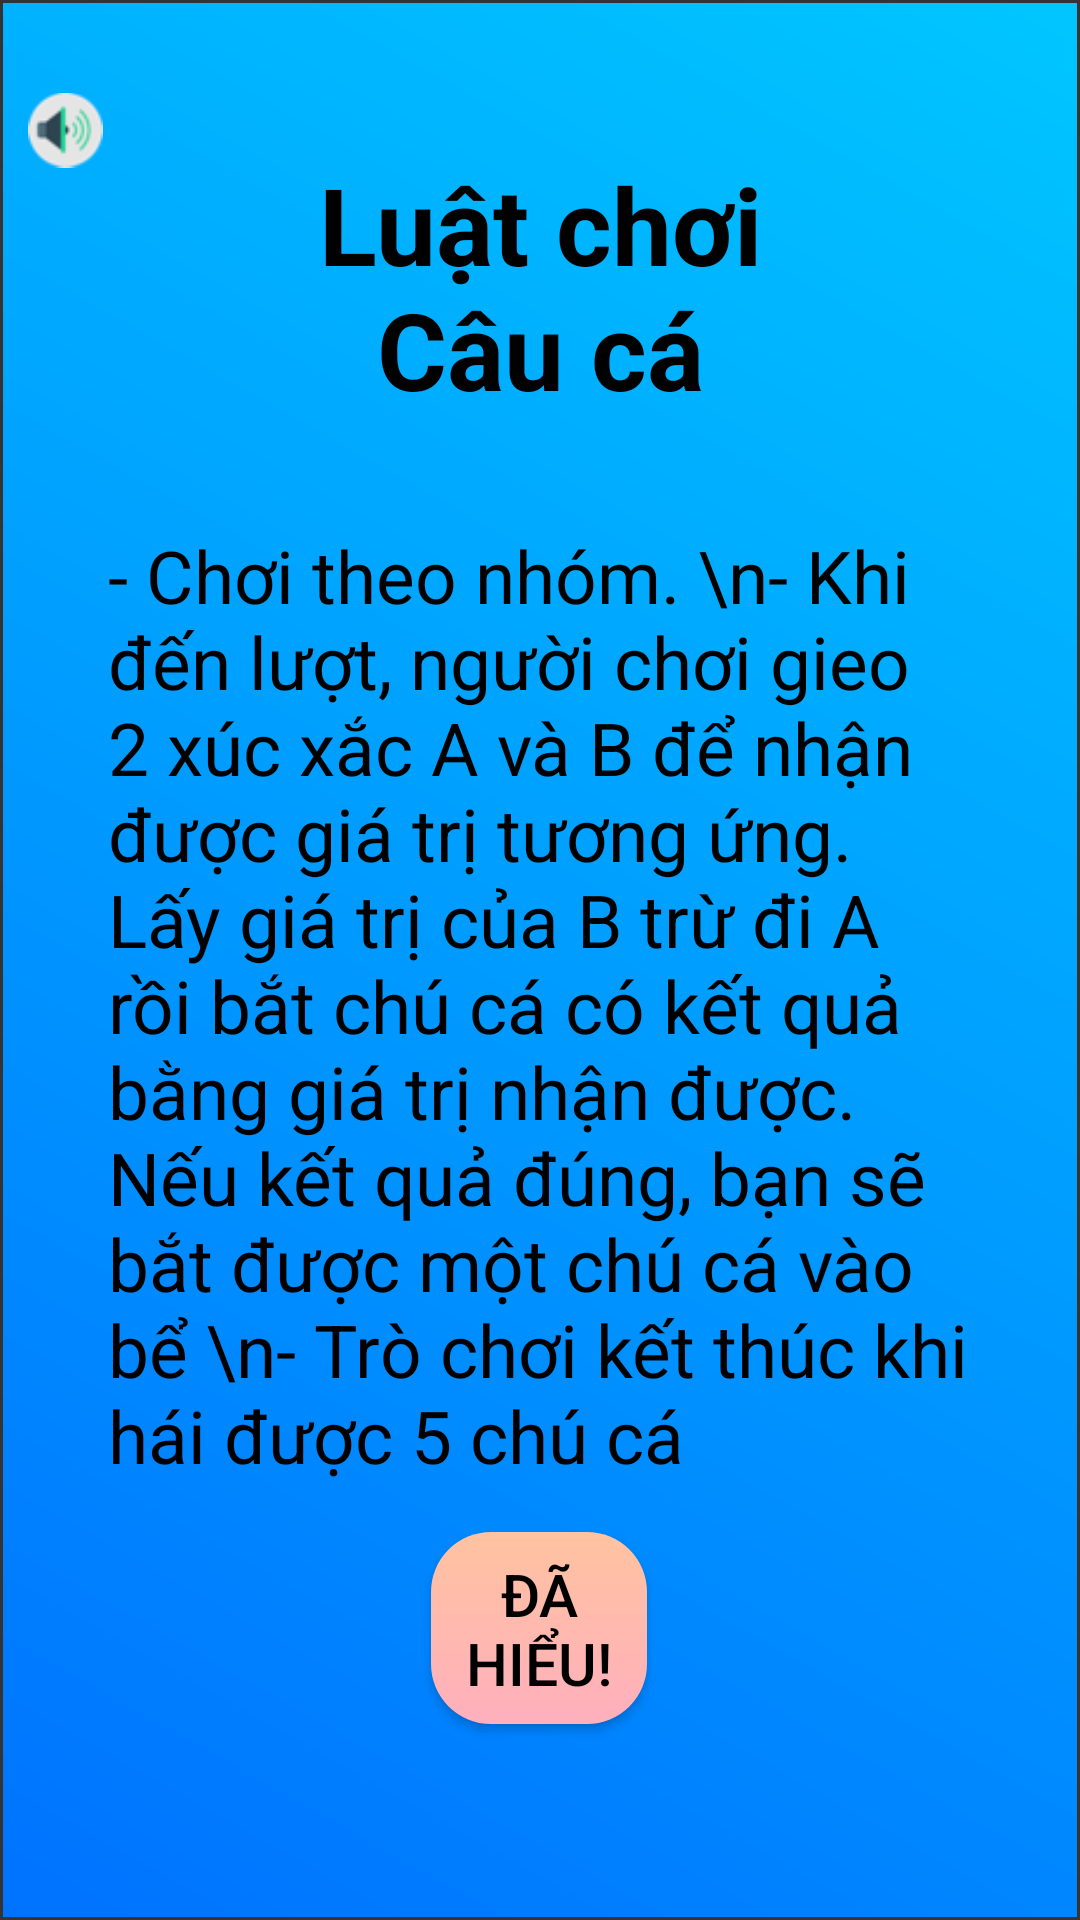

Where to tap for icons on this 1080w x 1920h app screen, as (x,y):
sound on: (65,130)
